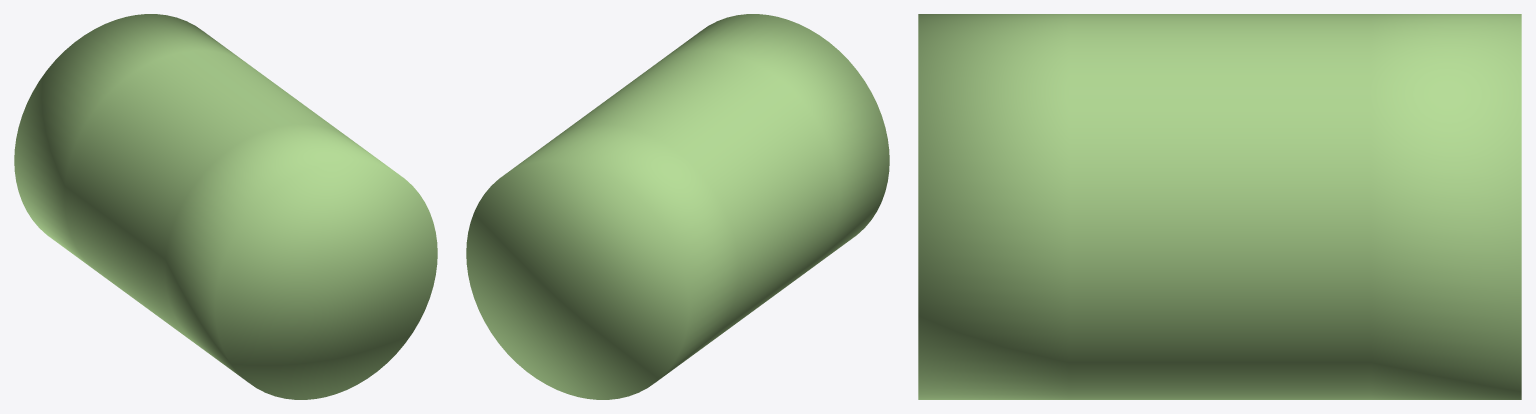
3 views of the same model, side by side, from view 1: azimuth 30°, elevation 25°; view 2: azimuth 150°, elevation 25°; view 3: azimuth 270°, elevation 25° (orthographic). The views are drawn at different scales.
Parts seen in each view (by area): view 1: NURBSCylinder_R8_H25; view 2: NURBSCylinder_R8_H25; view 3: NURBSCylinder_R8_H25.
Boxes of the visible parts, x1,y1,x2,y2 form: NURBSCylinder_R8_H25: [14, 14, 437, 399]; NURBSCylinder_R8_H25: [466, 14, 889, 399]; NURBSCylinder_R8_H25: [918, 14, 1521, 399].
Bounding box in the file's own units: 16 × 16 × 25.
